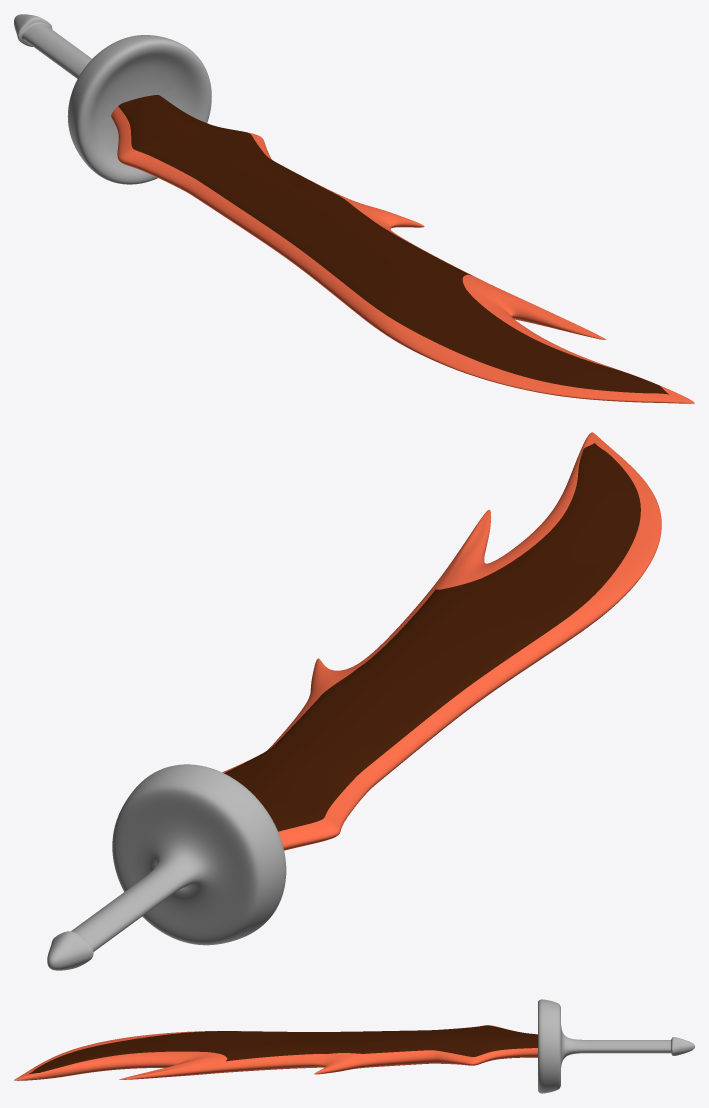
The model's file is Sword01.fbx.
The picture shows the model from 3 angles, top to bottom: view 1: azimuth 30°, elevation 25°; view 2: azimuth 150°, elevation 25°; view 3: azimuth 270°, elevation 25°; orthographic projection. The views are drawn at different scales.
Parts seen in each view (by area): view 1: Sowrd01; view 2: Sowrd01; view 3: Sowrd01.
Boxes of the visible parts, left/top/right/bottom form: Sowrd01: left=14, top=14, right=694, bottom=403; Sowrd01: left=47, top=432, right=661, bottom=970; Sowrd01: left=14, top=999, right=694, bottom=1093.
Size of the model in its own units: 0.6185 by 0.4558 by 3.3.
